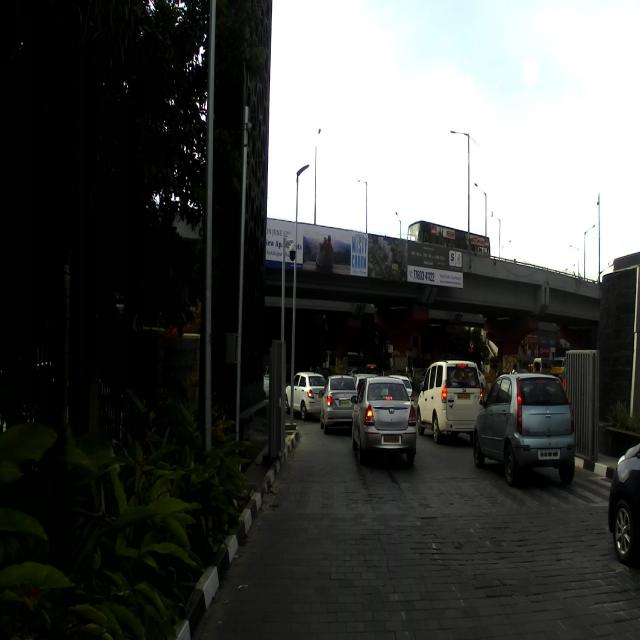car: (472, 372, 576, 484), (350, 370, 417, 467), (417, 360, 486, 443)
